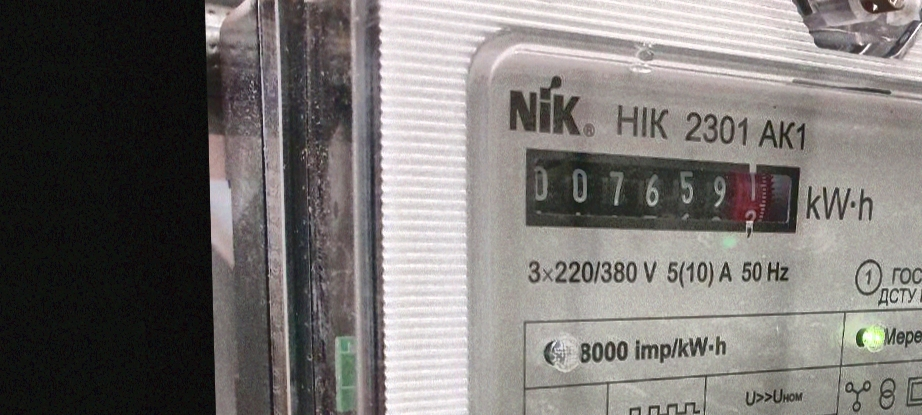0: (566, 164, 591, 205), (527, 162, 551, 203)
1: (743, 171, 761, 204)
5: (675, 168, 696, 206)
6: (640, 170, 662, 209)
7: (605, 168, 625, 208)
9: (709, 173, 727, 210)
screen: (513, 132, 809, 259)
